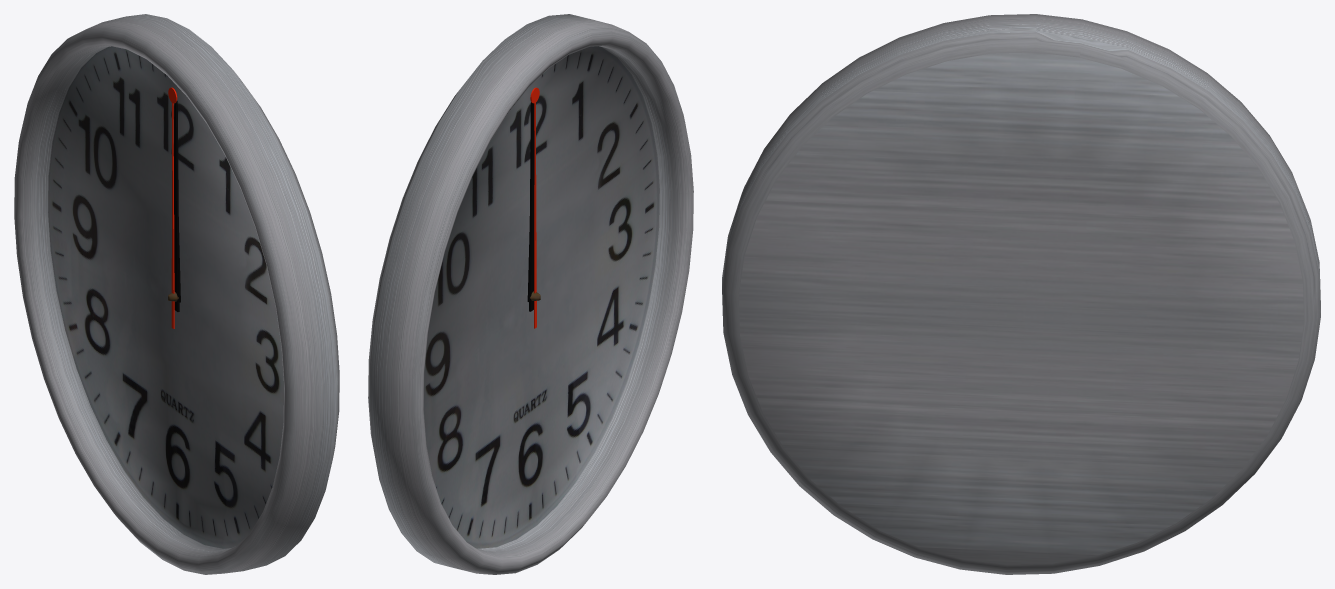
Rendered from clock.fbx.
3 renders of one model, left to right at view 1: azimuth 30°, elevation 25°; view 2: azimuth 150°, elevation 25°; view 3: azimuth 270°, elevation 25°, orthographic. The views are drawn at different scales.
Parts seen in each view (by area): view 1: D:Casing, D:Minutes, D:Seconds; view 2: D:Casing, D:Minutes, D:Seconds; view 3: D:Casing.
Boxes of the visible parts, x1,y1,x2,y2 form: D:Casing: (14, 14, 339, 574); D:Minutes: (173, 101, 179, 311); D:Seconds: (168, 87, 177, 328); D:Casing: (368, 14, 693, 574); D:Minutes: (529, 102, 534, 311); D:Seconds: (530, 87, 539, 328); D:Casing: (722, 14, 1320, 574).
Size of the model in its own units: 10.27 by 89.16 by 89.16.
Materials: 4 (2 with a texture image).
